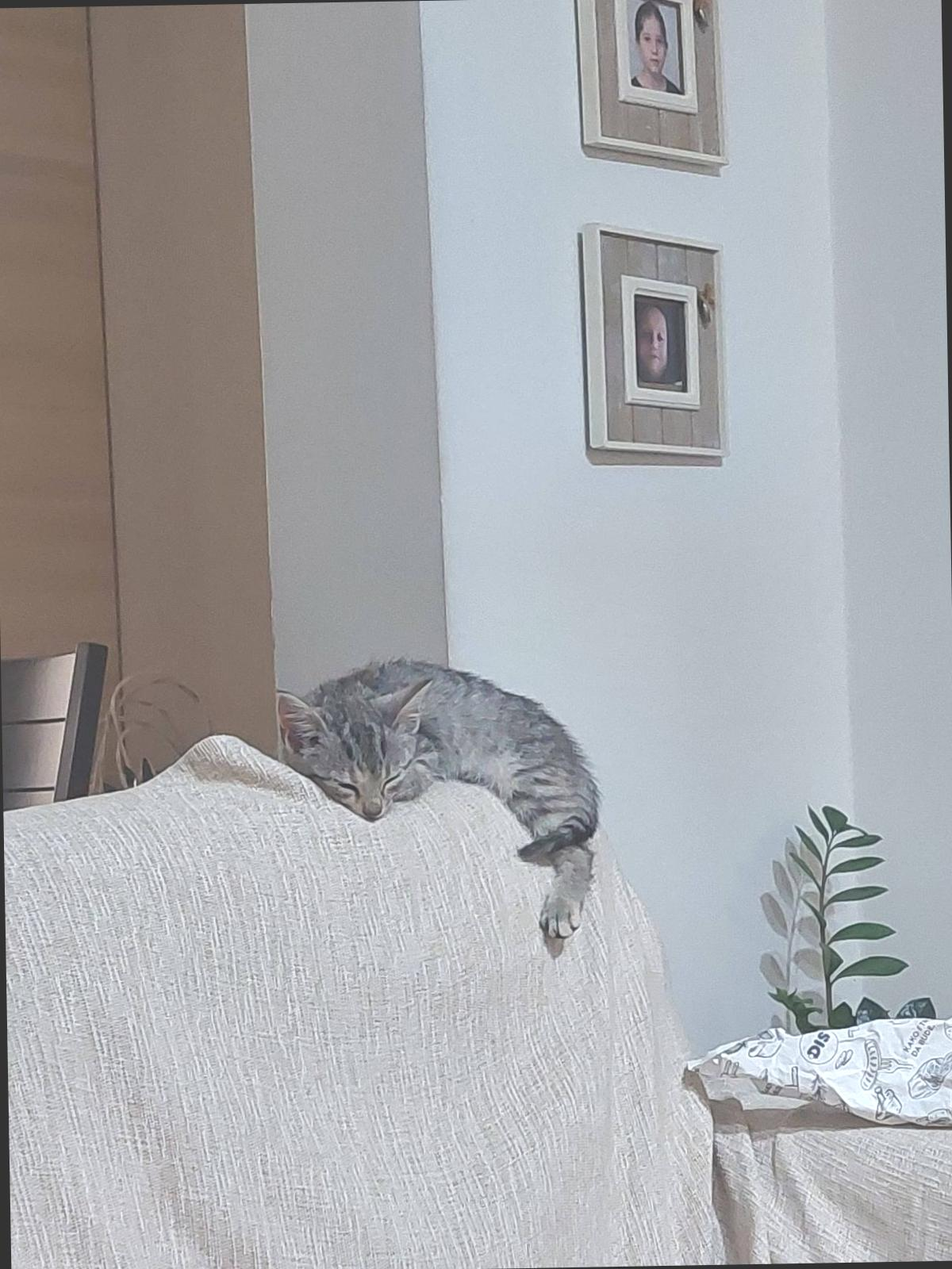macka: (271, 654, 608, 951)
